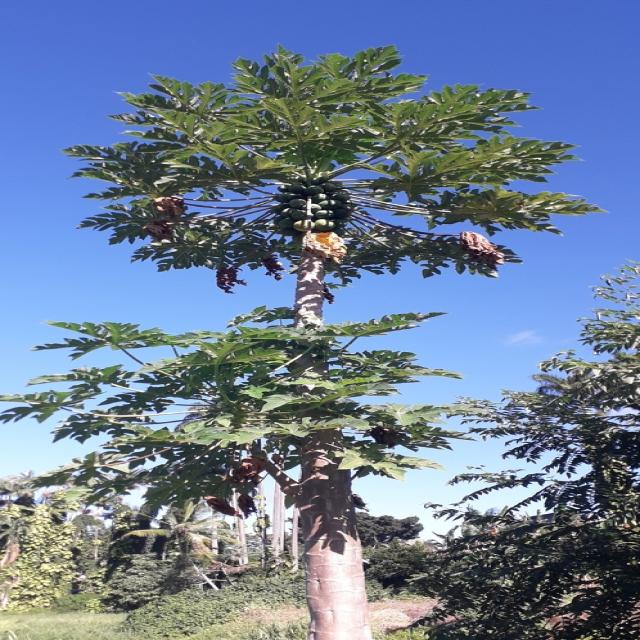Papaya-Tree: (49, 9, 556, 637)
